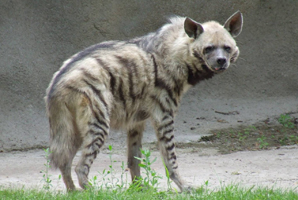hyena: (39, 8, 244, 197)
